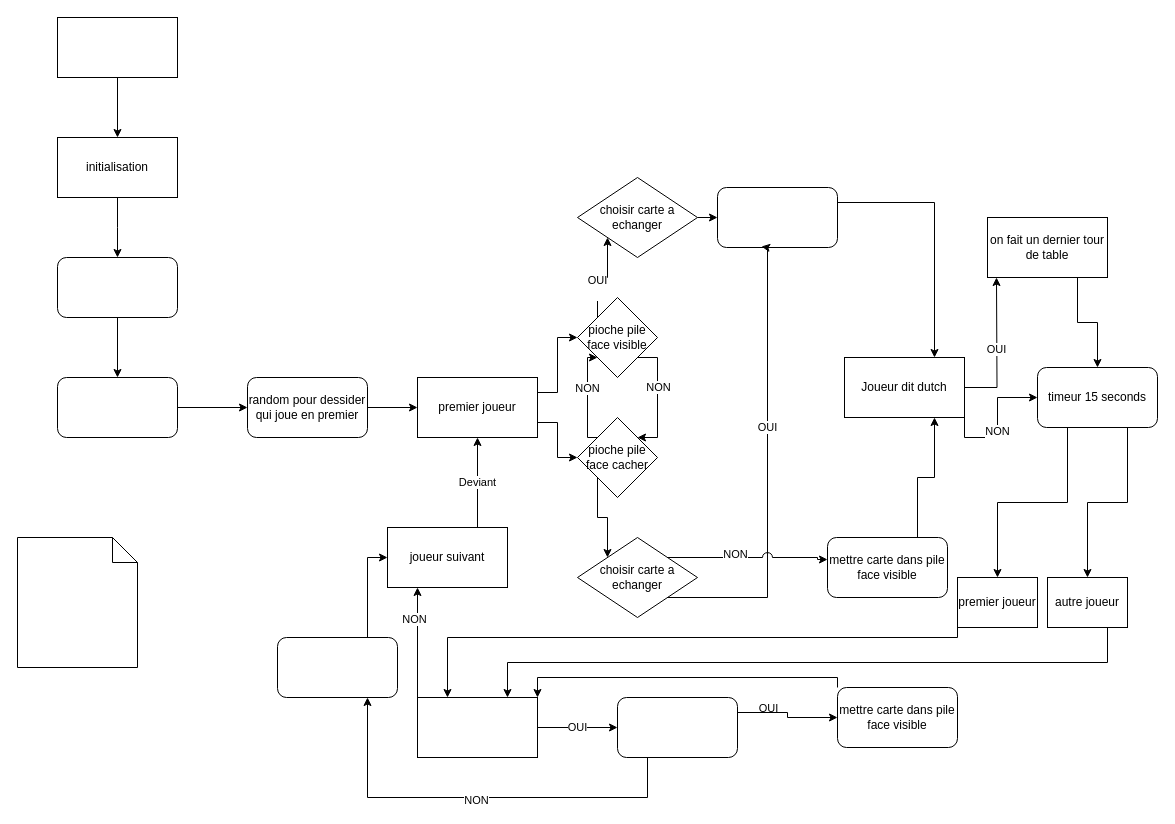
This 1175x824 diagram has some shape labels left out. Here are the shapes that lost their labels. From the top down, the centre of each, then its label:
At (x=117, y=47): "Demarrage".
At (x=777, y=217): "echanger les deux carte et ajouter la carte changer a la pile face visible".
At (x=117, y=287): "distribution des 4 cartes aux joueurs".
At (x=117, y=407): "prend la carte au dessus du paquet et fait une autre pile face visible".
At (x=77, y=602): "Dernier tour de table: variable".
At (x=337, y=667): "Pioche une carte".
At (x=477, y=727): "defosse carte".
At (x=677, y=727): "meme chiffre carte de la pile visible".
